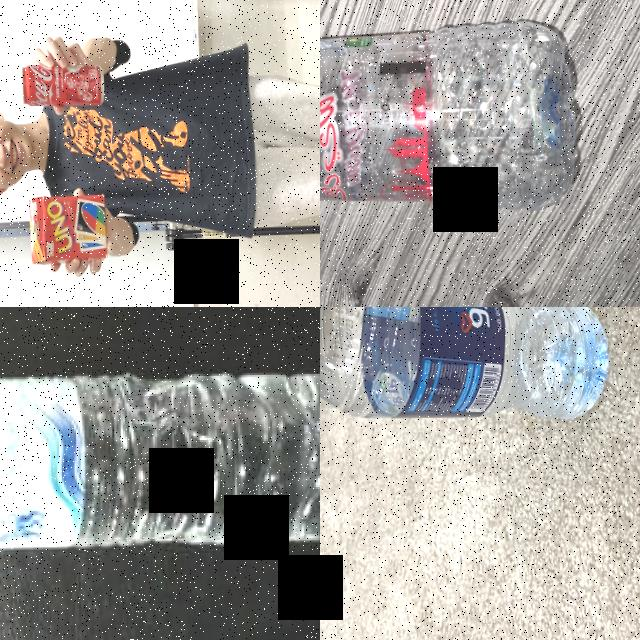bottle: (0, 369, 320, 552), (320, 25, 582, 214), (320, 307, 613, 426)
can: (21, 60, 106, 107)
